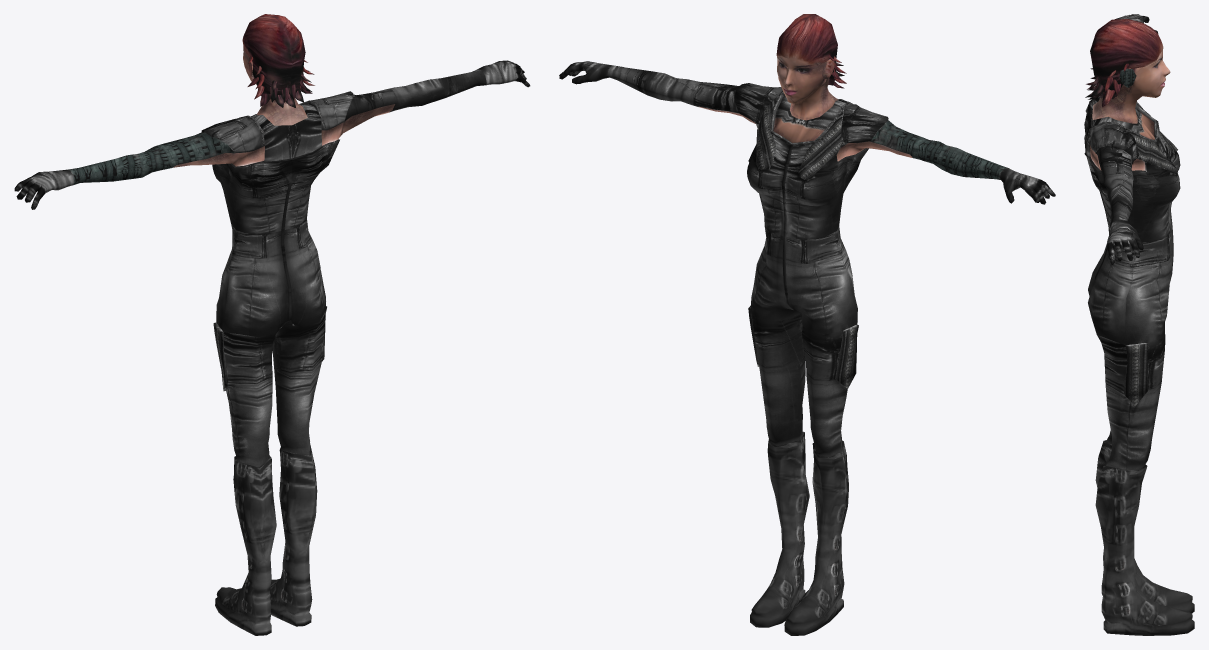
The model's file is mechfemale.obj.
The picture shows the model from 3 angles, left to right: view 1: azimuth 30°, elevation 25°; view 2: azimuth 150°, elevation 25°; view 3: azimuth 270°, elevation 25°; orthographic projection. The views are drawn at different scales.
Visible parts, largest first — view 1: mech_female; view 2: mech_female; view 3: mech_female.
Part boxes in pixels (bbox=[...]): mech_female: bbox=[14, 14, 530, 635]; mech_female: bbox=[559, 14, 1055, 635]; mech_female: bbox=[1084, 14, 1194, 635].
Bounding box in the file's own units: 61.55 × 70.75 × 11.81.
